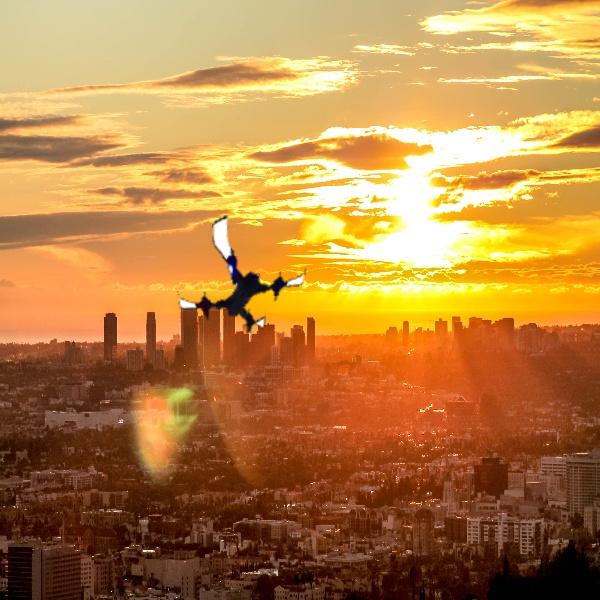drone: (176, 203, 314, 341)
